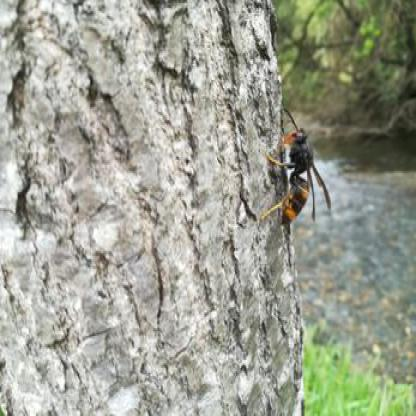Asian Hornet: (260, 98, 335, 236)
